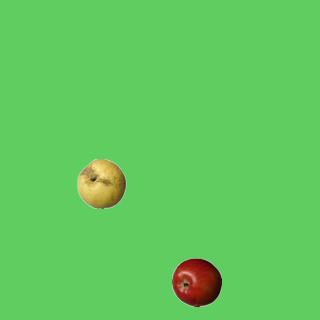Apple Braeburn: (171, 257, 221, 307)
Apple Golden 1: (76, 158, 126, 208)
